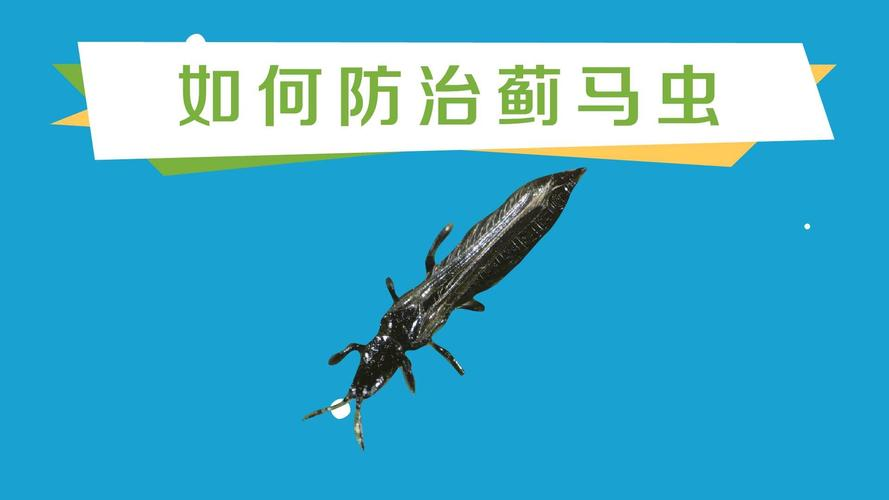Thripidae: (306, 160, 588, 448)
